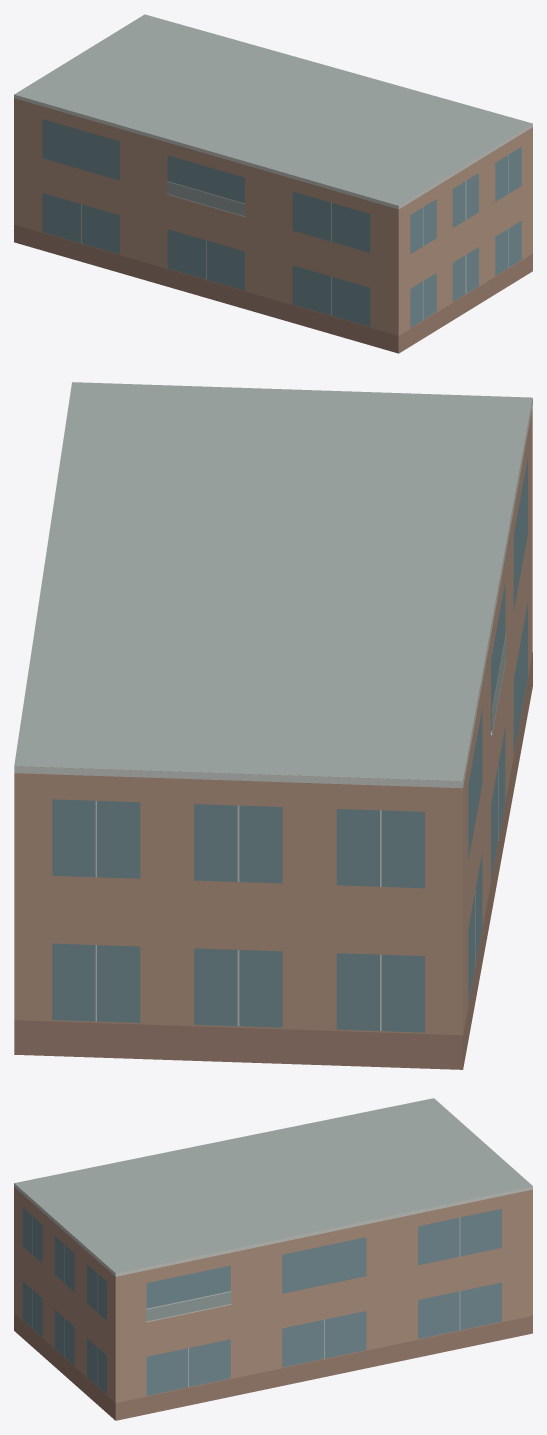
The model's file is survey-upis-32467660.glb.
3 views of the same model, one above another, from view 1: azimuth 30°, elevation 25°; view 2: azimuth 150°, elevation 25°; view 3: azimuth 270°, elevation 25° (orthographic). The views are drawn at different scales.
Parts seen in each view (by area): view 1: survey-upis-32467660.tmp; view 2: survey-upis-32467660.tmp; view 3: survey-upis-32467660.tmp.
Boxes of the visible parts, left/top/right/bottom form: survey-upis-32467660.tmp: left=14, top=14, right=532, bottom=353; survey-upis-32467660.tmp: left=14, top=382, right=532, bottom=1069; survey-upis-32467660.tmp: left=14, top=1098, right=532, bottom=1420.
Bounding box in the file's own units: 25.65 × 10.07 × 32.1.
